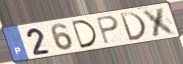2: (25, 26, 54, 58)
6: (49, 22, 74, 52)
D: (118, 11, 148, 42), (70, 19, 99, 50)
P: (94, 14, 120, 46)
X: (140, 6, 179, 38)
